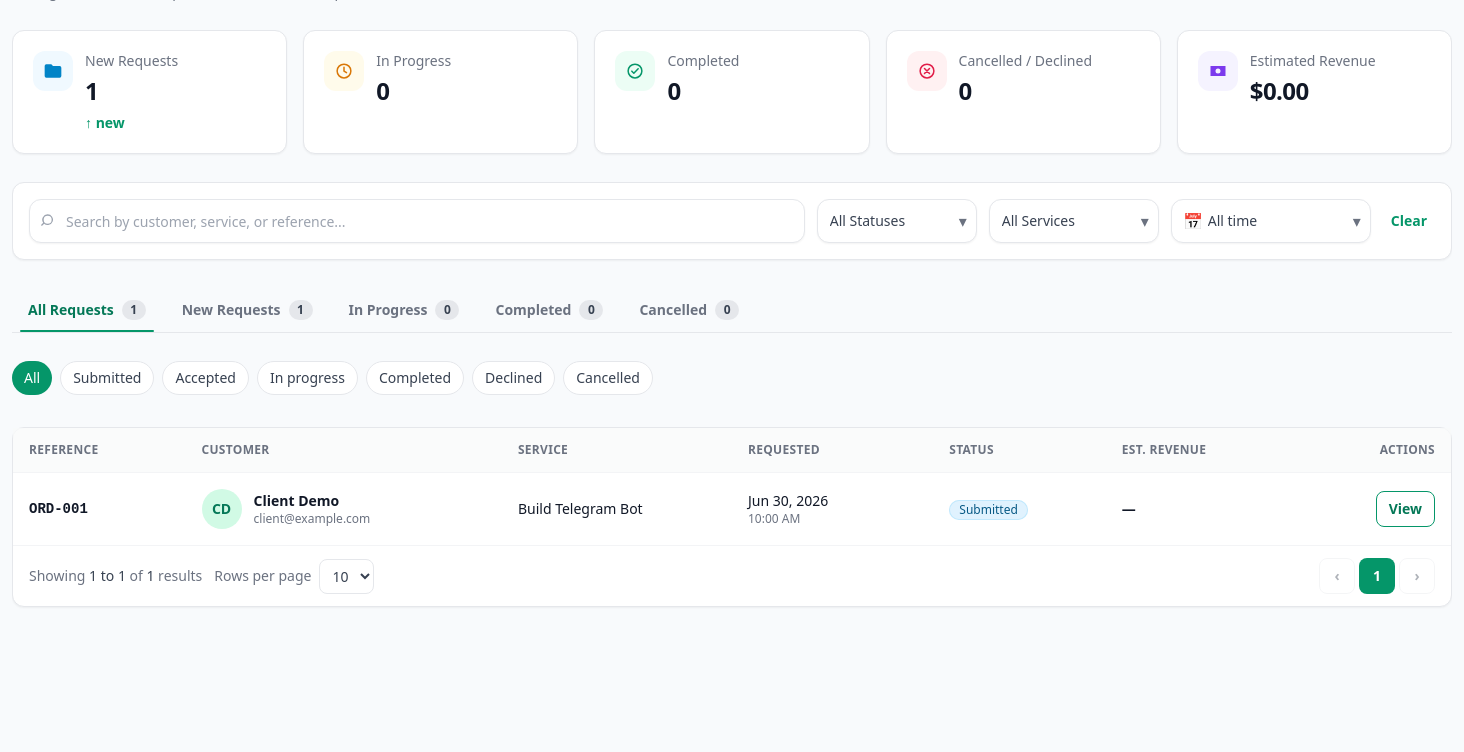
Test case: AdminOrdersPage mobile UX and confirms › detail panel messages section remains available
This screenshot has width=1464, height=752.
Click the button "View".
click(1405, 509)  # box [1376,491,1435,527]
(page scrolled)
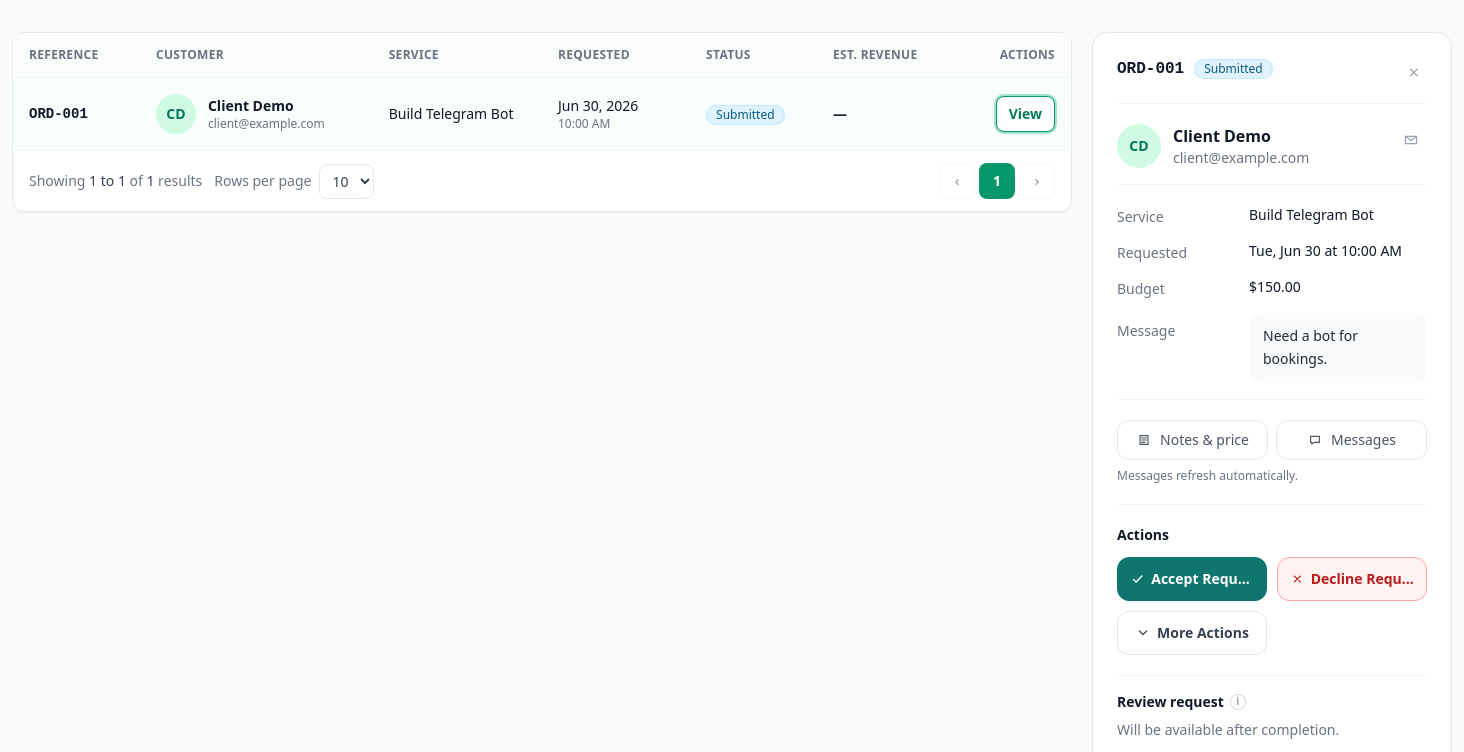
Now the element with test id "admin-order-messages" is shown, box [1117,420,1427,484]
Now the text "Messages refresh automatically." is shown, box [1117,466,1298,484]
Now the text "Need a bot for bookings." is shown, box [1249,313,1427,382]
